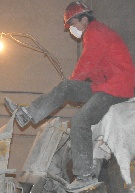boots: (3, 97, 31, 128), (65, 174, 102, 193)
gloves: (3, 97, 31, 128)
hard-hat: (62, 0, 90, 27)
